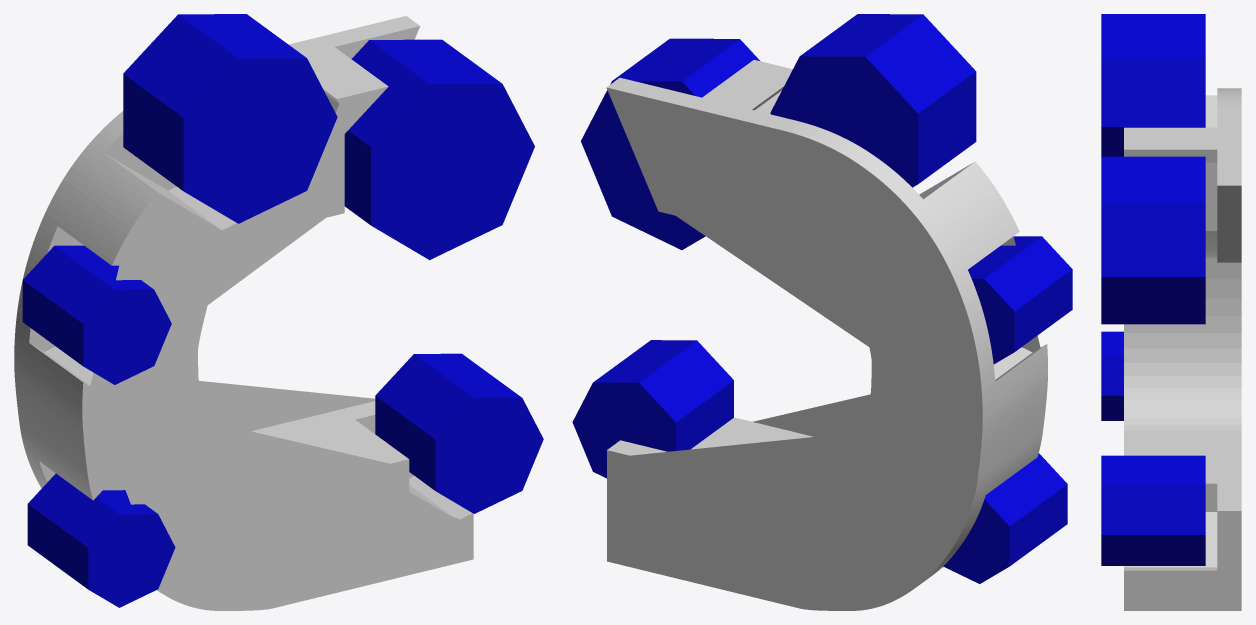
Rendered from Ch_Lite_C_01.fbx.
3 renders of one model, left to right at view 1: azimuth 30°, elevation 25°; view 2: azimuth 150°, elevation 25°; view 3: azimuth 270°, elevation 25°, orthographic. The views are drawn at different scales.
Visible parts, largest first — view 1: sphere1; view 2: sphere1; view 3: sphere1.
Part boxes in pixels (x1,y1,x2,y2): sphere1: [14, 14, 543, 610]; sphere1: [572, 14, 1072, 610]; sphere1: [1101, 14, 1241, 610].
Size of the model in its own units: 0.7812 by 0.9255 by 0.2387.
